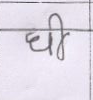i_matra: (50, 12, 70, 60)
